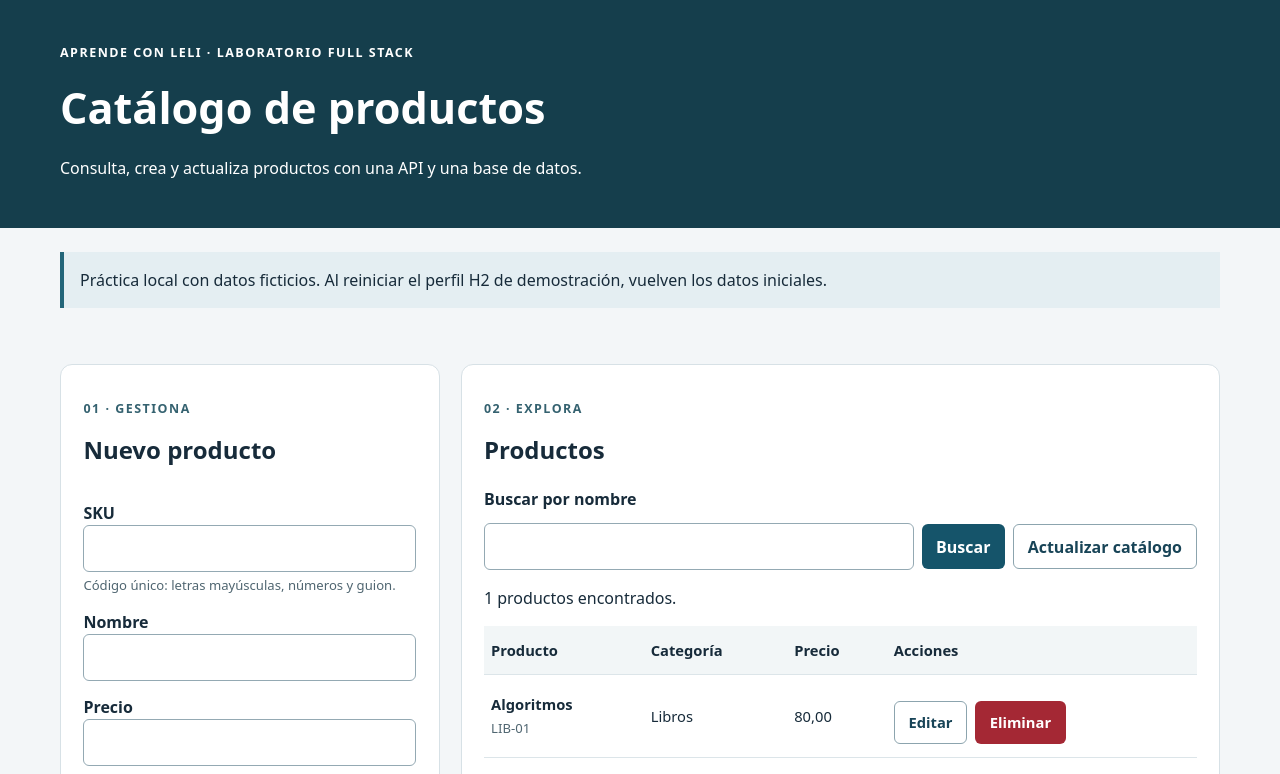
Test: confirma eliminación y evita borrar al cancelar
Expected: the button with aria-label "Editar Algoritmos" is shown, [894, 700, 967, 744]
Click the button with aria-label "Eliminar Algoritmos": (1020, 722) [975, 700, 1066, 744]
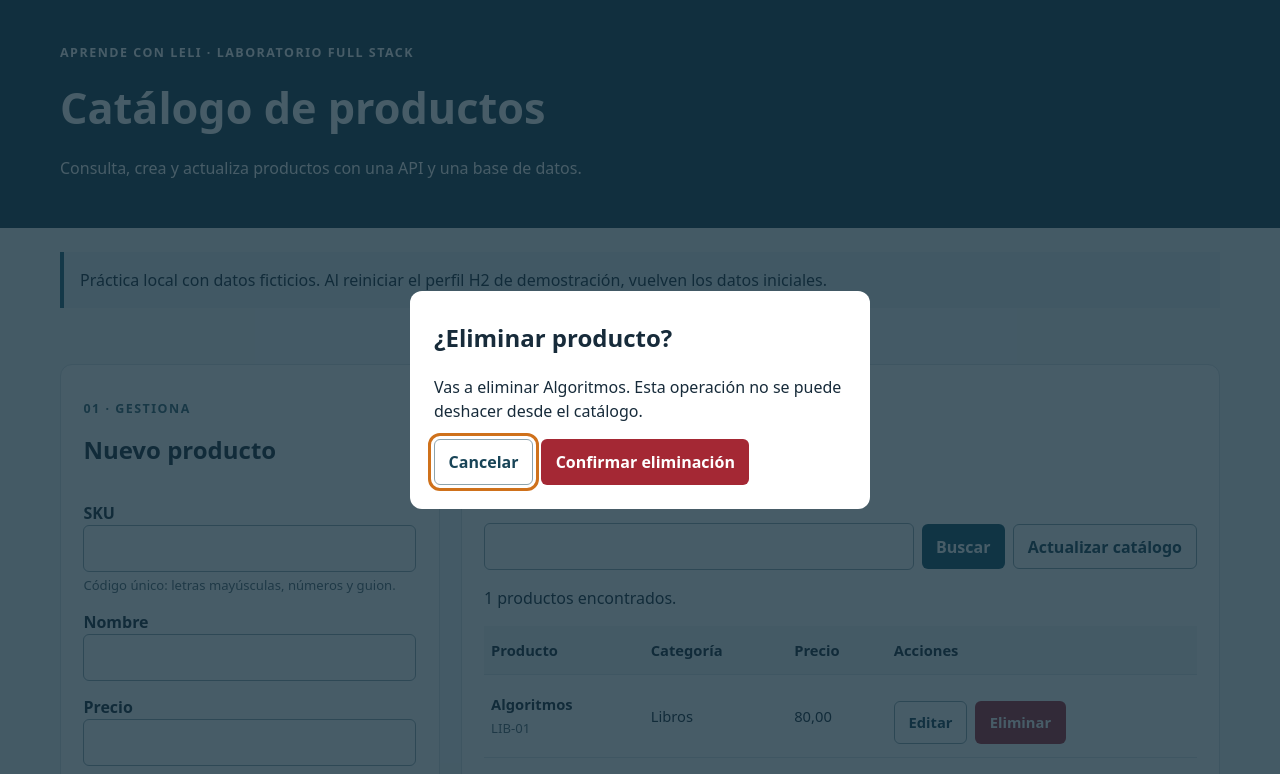
Click the button "Cancelar": (484, 462) [434, 439, 533, 485]
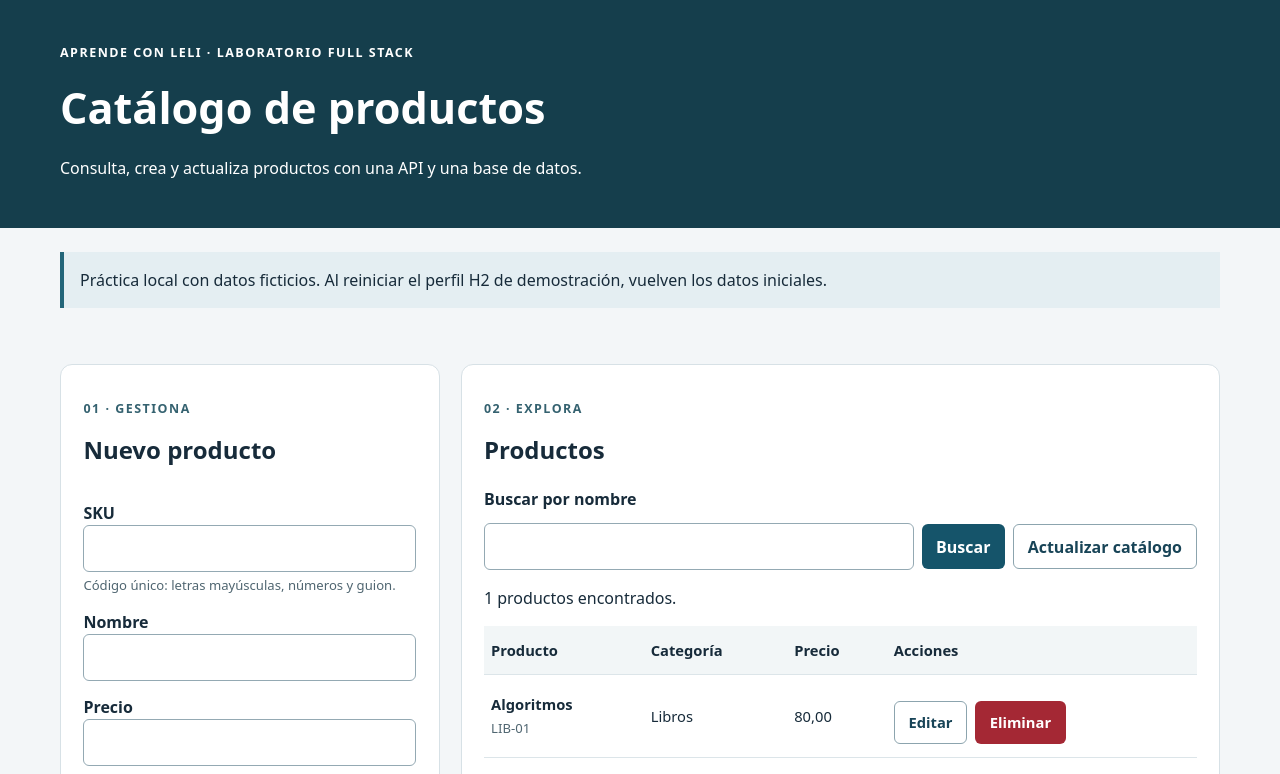
Click the button with aria-label "Eliminar Algoritmos": (1020, 722) [975, 700, 1066, 744]
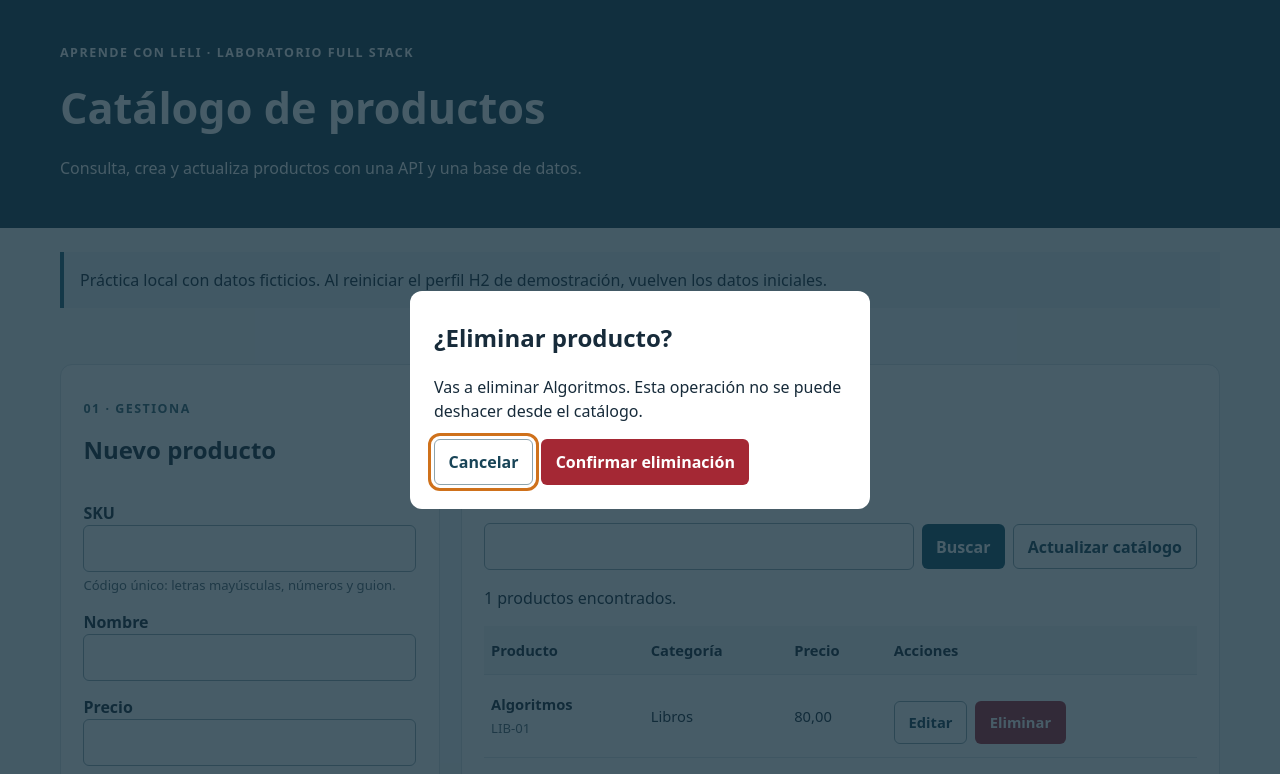
Click the button "Confirmar eliminación": (645, 462) [541, 439, 749, 485]
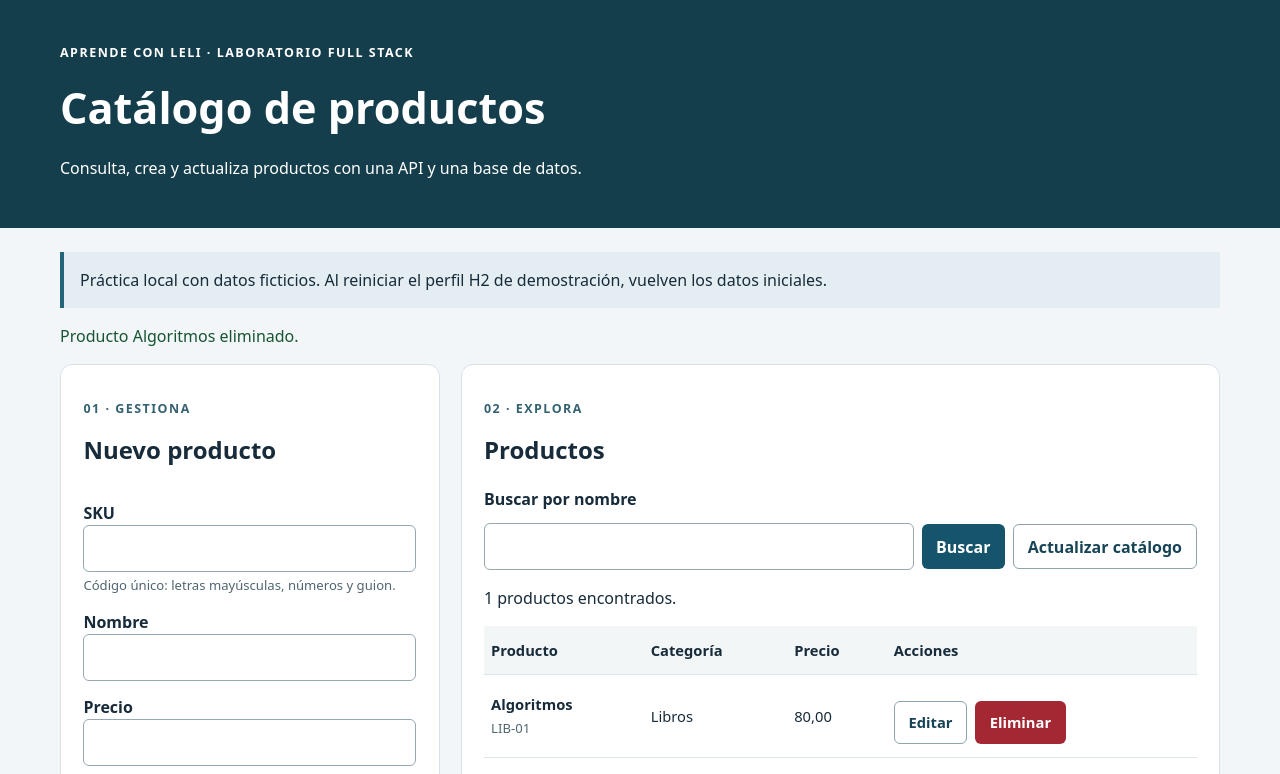
Expected: the text "Producto Algoritmos eliminado." is shown, [60, 326, 299, 348]
